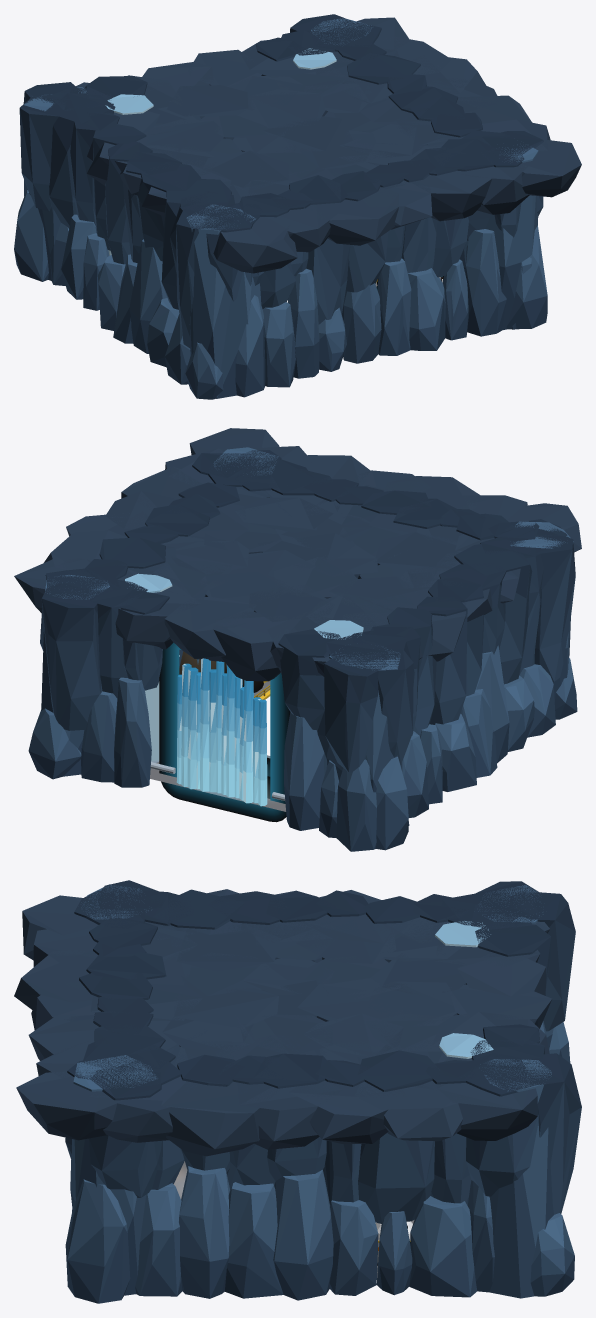
File: cryo-hall.glb
3 renders of one model, top to bottom at view 1: azimuth 30°, elevation 25°; view 2: azimuth 150°, elevation 25°; view 3: azimuth 270°, elevation 25°, orthographic. The views are drawn at different scales.
Visible parts, largest first — view 1: Batched static valley; view 2: Batched static valley; view 3: Batched static valley.
Part boxes in pixels (x1,y1,x2,y2): Batched static valley: [14, 14, 581, 399]; Batched static valley: [14, 428, 581, 851]; Batched static valley: [14, 880, 581, 1303].
Bounding box in the file's own units: 53.63 × 23.6 × 53.75.
14 materials, 2 textured.
